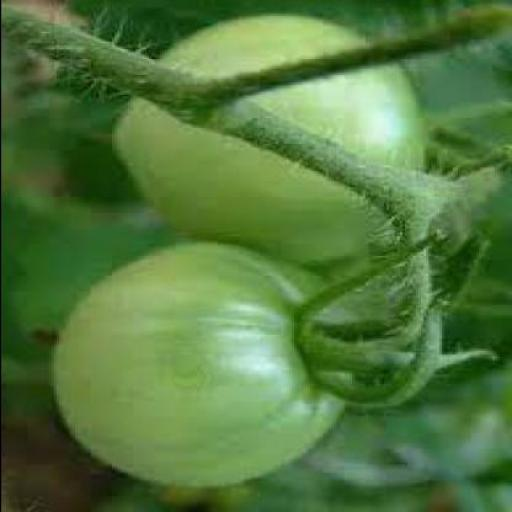biodegradable: (108, 20, 436, 263), (50, 246, 362, 490)
